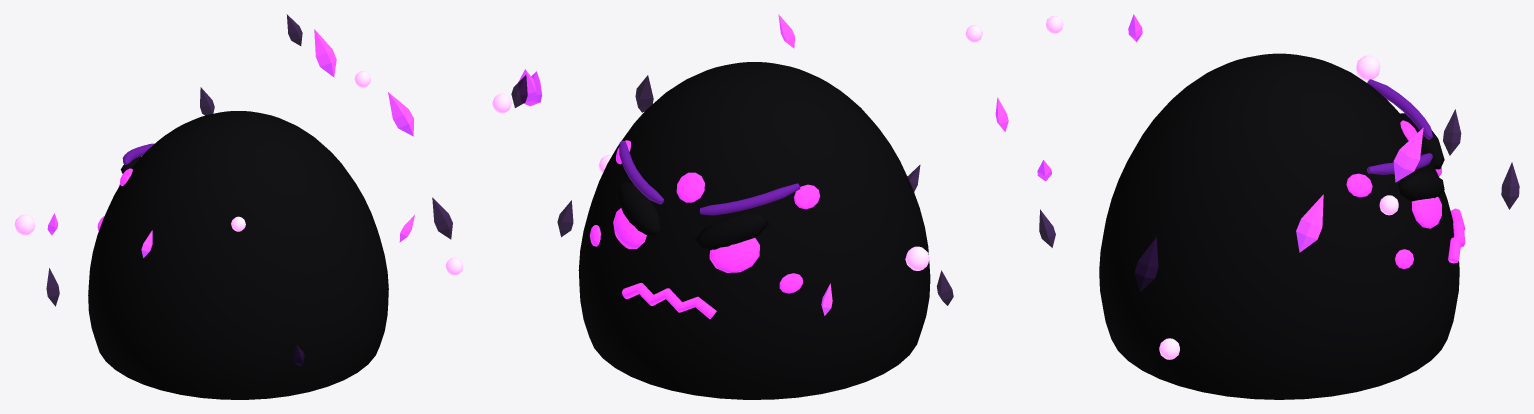
Rendered from Guardian_Void.glb.
The picture shows the model from 3 angles, left to right: view 1: azimuth 30°, elevation 25°; view 2: azimuth 150°, elevation 25°; view 3: azimuth 270°, elevation 25°; orthographic projection. The views are drawn at different scales.
Parts seen in each view (by area): view 1: Body, Shards, ShardsDark, Orbs; view 2: Body, Eyes, Lids, Brows, ShardsDark, Shards, Mouth, Orbs; view 3: Body, Shards, ShardsDark, Eyes, Lids, Orbs, Brows, Mouth.
Boxes of the visible parts, x1,y1,x2,y2 form: Body: [88, 111, 388, 399]; Shards: [47, 29, 414, 257]; ShardsDark: [46, 14, 452, 366]; Orbs: [14, 71, 463, 275]; Body: [578, 62, 930, 399]; Eyes: [589, 140, 820, 293]; Lids: [617, 180, 768, 250]; Brows: [619, 140, 800, 215]; ShardsDark: [511, 75, 953, 305]; Shards: [518, 14, 1008, 315]; Mouth: [622, 283, 716, 319]; Orbs: [492, 25, 982, 270]; Body: [1099, 53, 1459, 399]; Shards: [1037, 14, 1423, 252]; ShardsDark: [1039, 109, 1519, 291]; Eyes: [1346, 120, 1441, 269]; Lids: [1398, 113, 1444, 201]; Orbs: [1046, 16, 1398, 359]; Brows: [1367, 79, 1432, 174]; Mouth: [1448, 208, 1465, 263].
Bounding box in the file's own units: 19.98 × 12.44 × 18.72.
